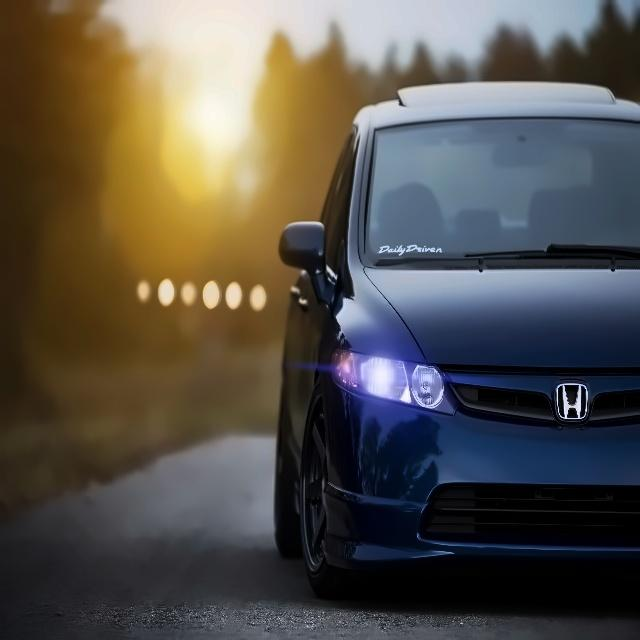Car hood: (362, 252, 640, 376)
Front bumper: (316, 389, 640, 590)
Headlight - -R-: (322, 339, 462, 420)
Side mirror - -R-: (272, 212, 344, 324)
